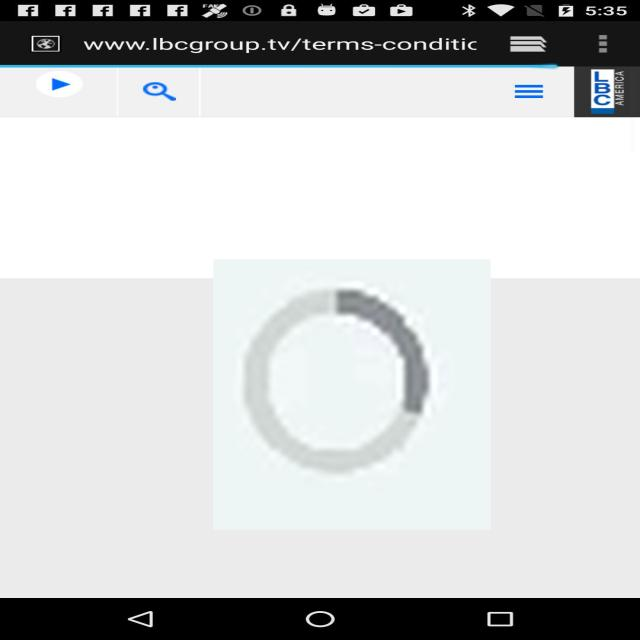misdirection: (213, 259, 491, 530)
